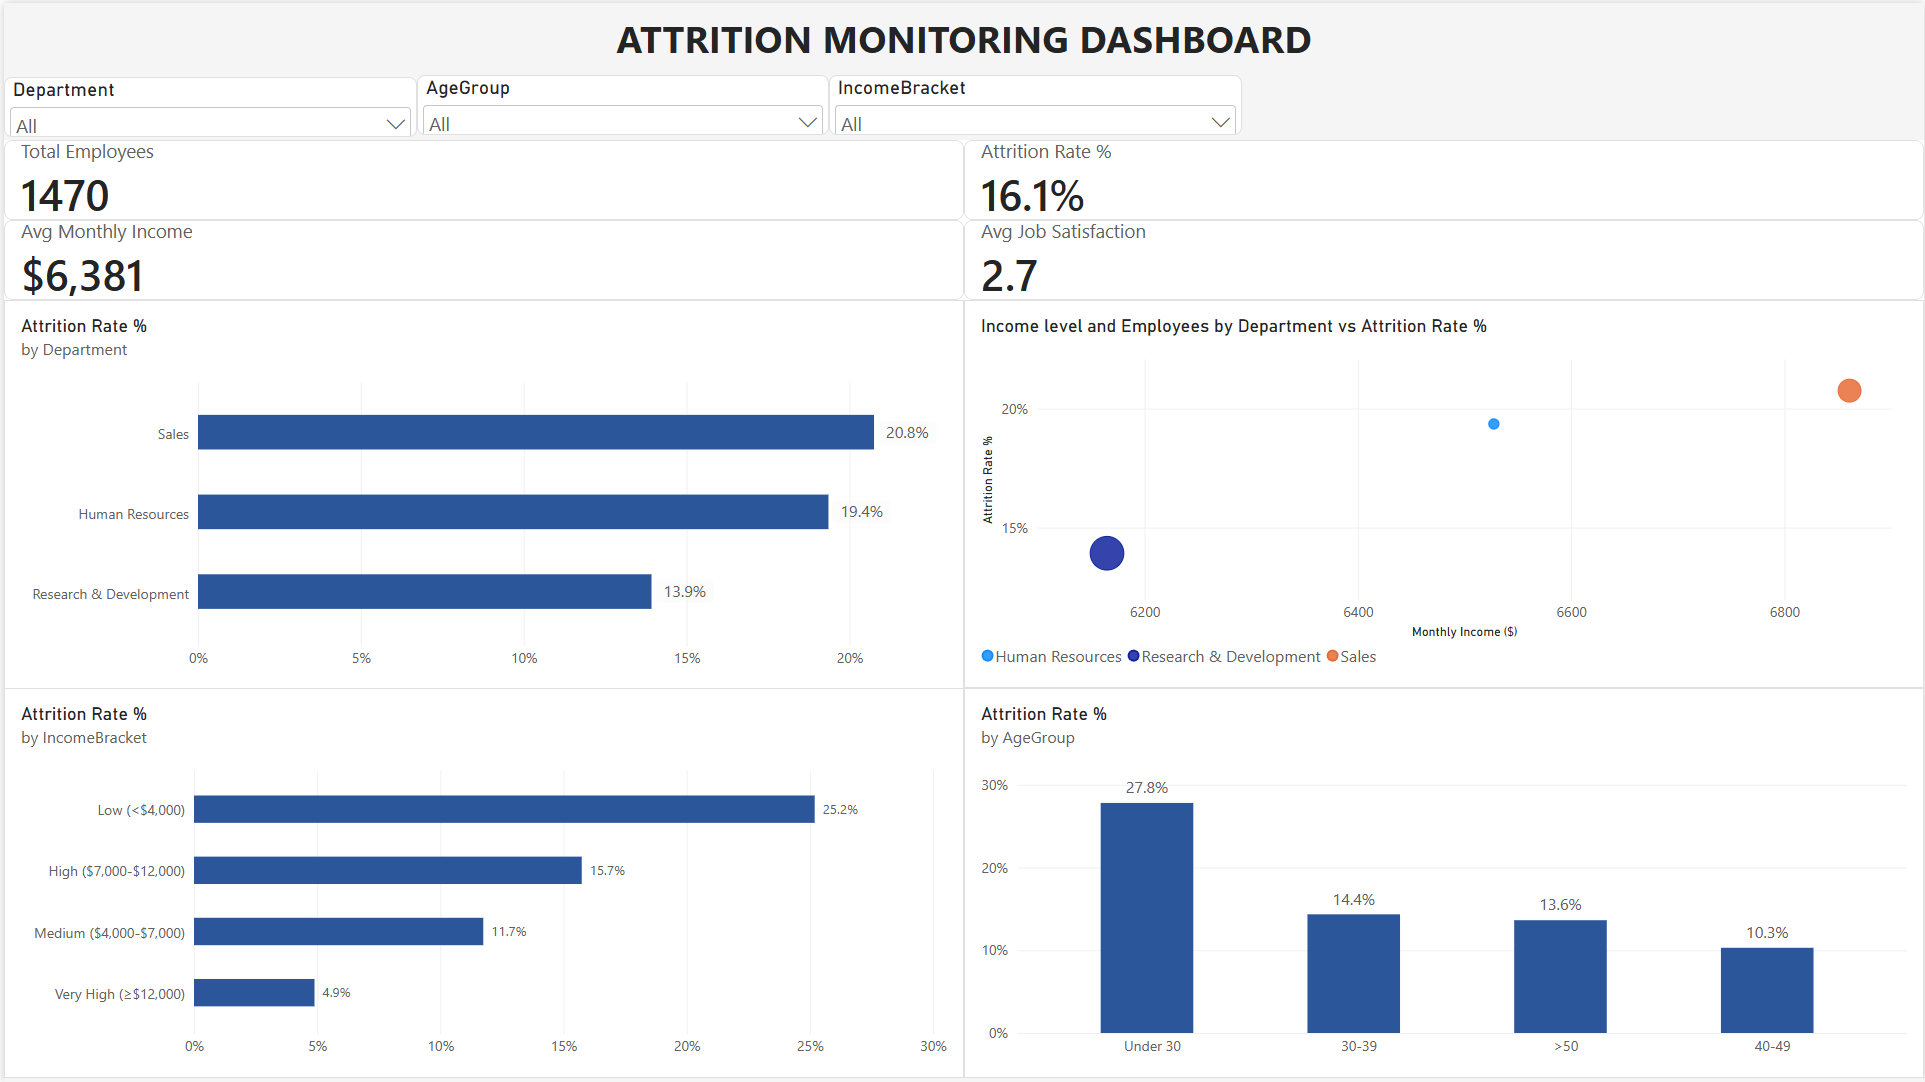

What the dashboard file says about the page in this screenshot:
{"tool":"powerbi","page":{"name":"Page 1","canvas":[1920,1080],"ordinal":0},"visuals":[{"type":"cardVisual","fields":{"Data":["_Measures.Total Employees"]},"box":[0,137,960,80],"z":0},{"type":"cardVisual","fields":{"Data":["_Measures.Attrition Rate %"]},"box":[960,137,960,80],"z":1000},{"type":"cardVisual","fields":{"Data":["_Measures.Avg Monthly Income"]},"box":[0,217.2,960,80],"z":2000},{"type":"cardVisual","fields":{"Data":["_Measures.Avg Job Satisfaction"]},"box":[960,217.2,960,80],"z":3000},{"type":"clusteredBarChart","fields":{"Y":["_Measures.Attrition Rate %"],"Category":["Employees.Department"]},"box":[0,297.1,960,390],"z":4000},{"type":"scatterChart","title":"Income level and Employees  by Department vs Attrition Rate %","fields":{"Size":["_Measures.Total Employees"],"Y":["_Measures.Attrition Rate %"],"Series":["Employees.Department"],"X":["Avg(Employees.MonthlyIncome)"]},"box":[960,297.3,960,387.7],"z":5000},{"type":"barChart","fields":{"Category":["Employees.IncomeBracket"],"Y":["_Measures.Attrition Rate %"]},"box":[0,685.1,960,390],"z":6000},{"type":"columnChart","fields":{"Category":["Employees.AgeGroup"],"Y":["_Measures.Attrition Rate %"]},"box":[960,685,960,389.6],"z":7000},{"type":"slicer","fields":{"Values":["Employees.Department"]},"box":[0.2,73.6,412.8,60],"z":8000},{"type":"slicer","fields":{"Values":["Employees.AgeGroup"]},"box":[412.7,72.5,412.8,60],"z":9000},{"type":"slicer","fields":{"Values":["Employees.IncomeBracket"]},"box":[825.3,71.6,412.8,60],"z":10000},{"type":"textbox","box":[0,0,1920,73.6],"z":11000}]}

Visuals, with their boxes in screenshot pixels (x1, y1, x2, y2), scaled from the page's 1920x1080 canvas onto the 1925x1082 screenshot:
cardVisual - _Measures.Total Employees: pyautogui.locateOnScreen(0, 137, 963, 217)
cardVisual - _Measures.Attrition Rate %: pyautogui.locateOnScreen(963, 137, 1924, 217)
cardVisual - _Measures.Avg Monthly Income: pyautogui.locateOnScreen(0, 218, 963, 298)
cardVisual - _Measures.Avg Job Satisfaction: pyautogui.locateOnScreen(963, 218, 1924, 298)
clusteredBarChart - _Measures.Attrition Rate % x Employees.Department: pyautogui.locateOnScreen(0, 298, 963, 688)
"Income level and Employees  by Department vs Attrition Rate %" scatterChart: pyautogui.locateOnScreen(963, 298, 1924, 686)
barChart - Employees.IncomeBracket x _Measures.Attrition Rate %: pyautogui.locateOnScreen(0, 686, 963, 1077)
columnChart - Employees.AgeGroup x _Measures.Attrition Rate %: pyautogui.locateOnScreen(963, 686, 1924, 1077)
slicer - Employees.Department: pyautogui.locateOnScreen(0, 74, 414, 134)
slicer - Employees.AgeGroup: pyautogui.locateOnScreen(414, 73, 828, 133)
slicer - Employees.IncomeBracket: pyautogui.locateOnScreen(827, 72, 1241, 132)
textbox: pyautogui.locateOnScreen(0, 0, 1924, 74)
